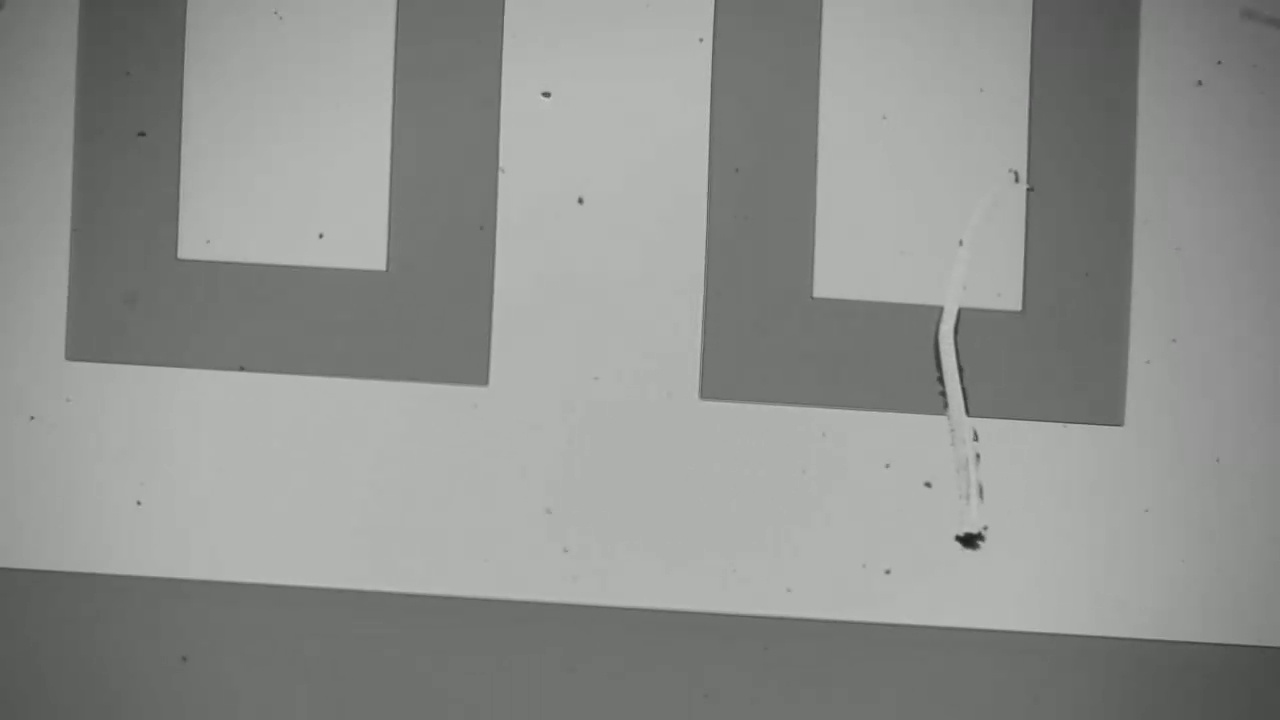Short_circuit: (912, 280, 1002, 442)
